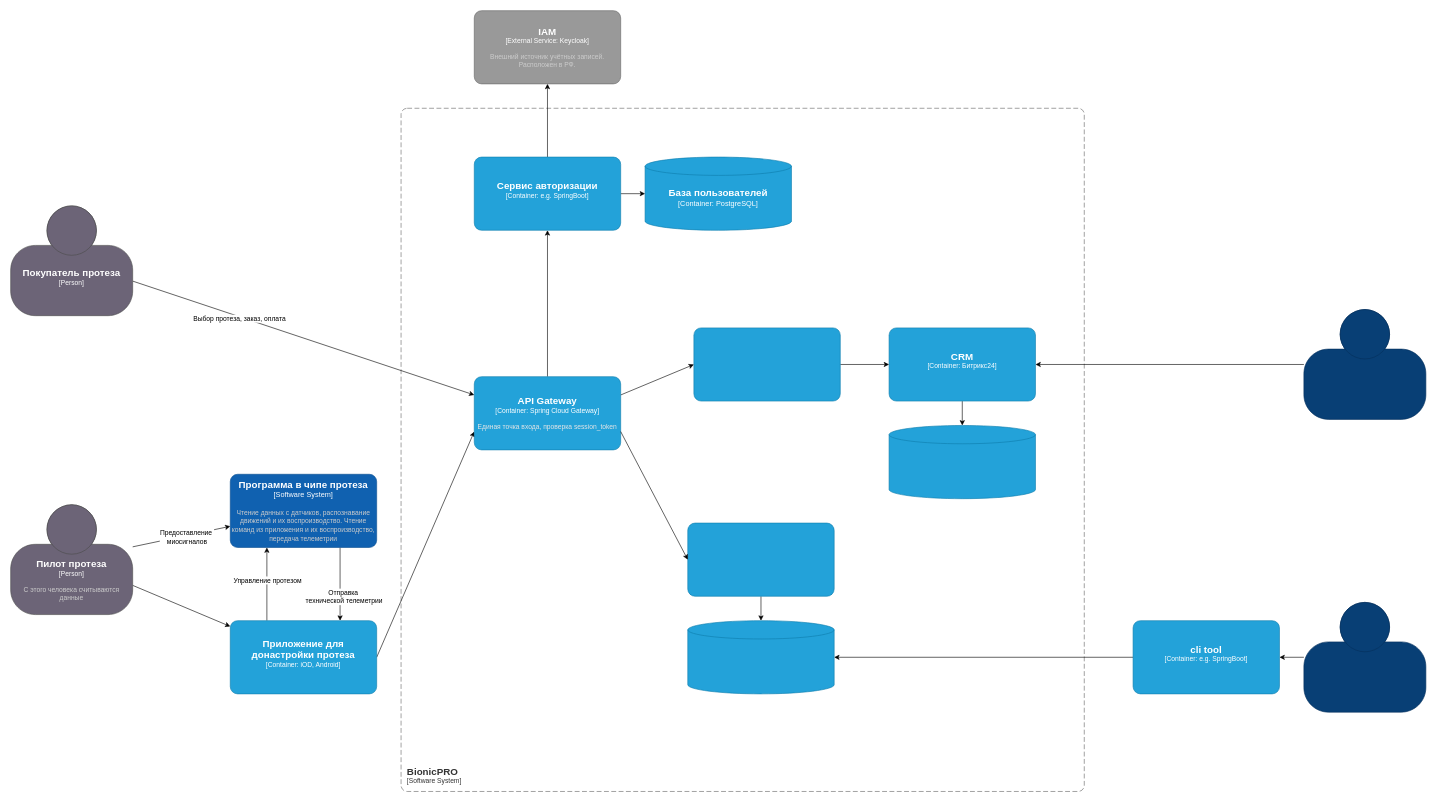
Some shapes in this 1437 by 802 pixel diagram are drawn without their labels. The centre of each missing label's shape, as x and y in pixels:
API [Container: e.g. SpringBoot]: the point at 760,559
CRM DB [Container: e.g. Oracle Database 12]: the point at 961,462
ML-инженер [Person]: the point at 1364,657
База данных [Container: PostgreSQL]: the point at 760,657
Интернет-магазин [Container: Битрикс24]: the point at 766,364
Оператор производства [Person]: the point at 1364,364
